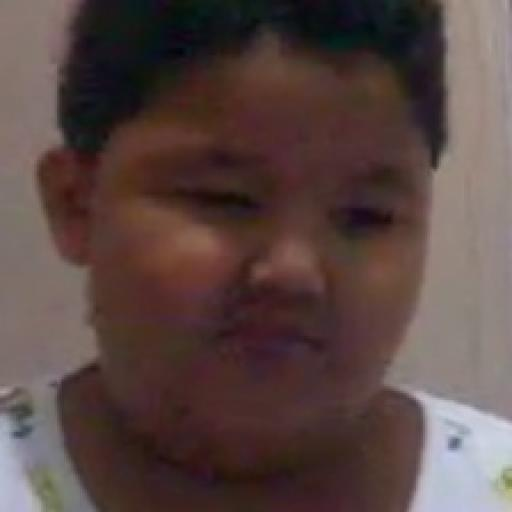Autism: (56, 18, 456, 495)
